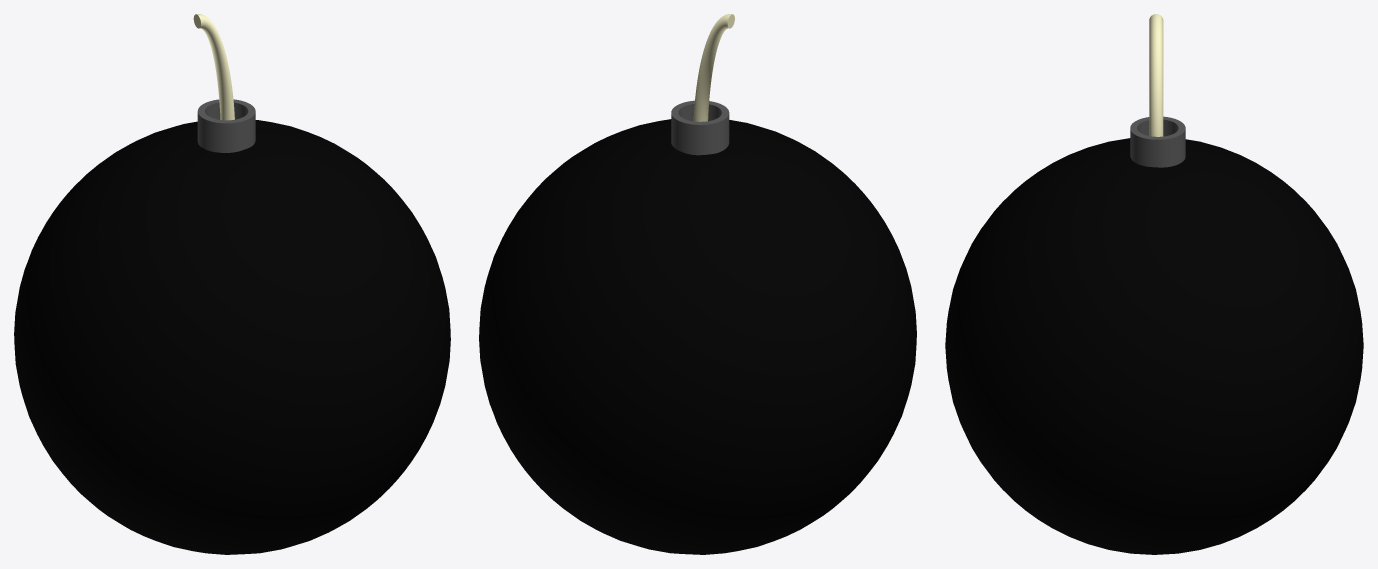
The model's file is MyBomb.fbx.
3 views of the same model, side by side, from view 1: azimuth 30°, elevation 25°; view 2: azimuth 150°, elevation 25°; view 3: azimuth 270°, elevation 25° (orthographic). The views are drawn at different scales.
Visible parts, largest first — view 1: node_id37 (×3); view 2: node_id37 (×3); view 3: node_id37 (×3).
Boxes of the visible parts, x1,y1,x2,y2 form: node_id37 (×3): (14, 14, 450, 554); node_id37 (×3): (479, 14, 916, 554); node_id37 (×3): (945, 14, 1363, 554).
Bounding box in the file's own units: 0.2088 × 0.278 × 0.2086.
3 materials, 2 textured.
